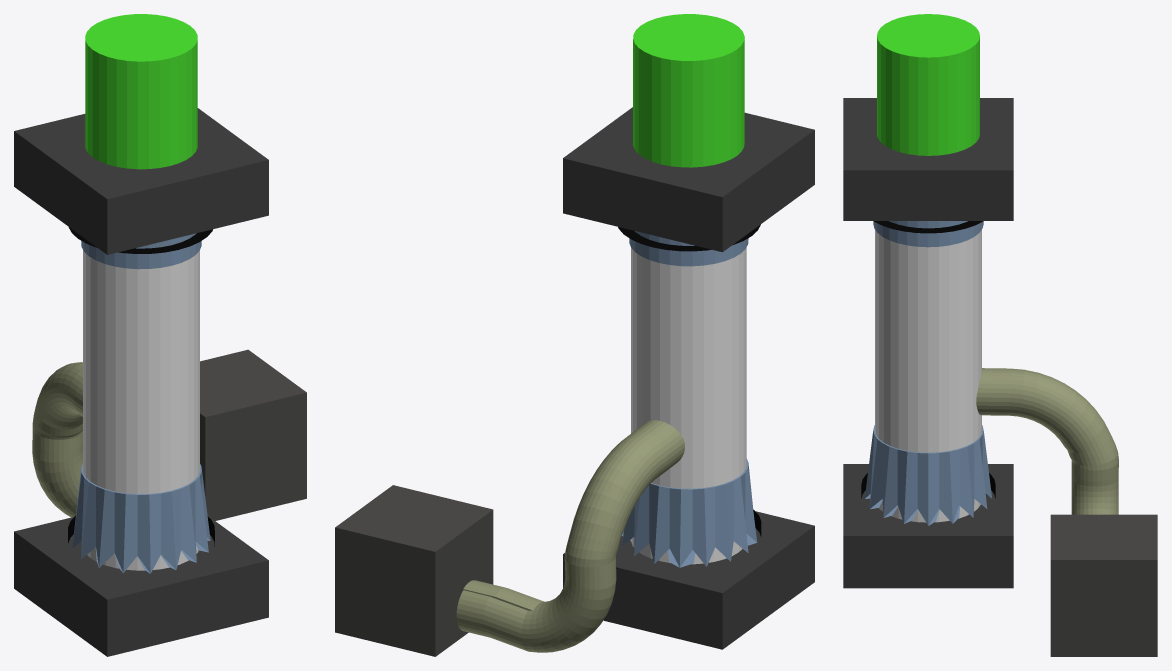
File: timer.fbx
3 views of the same model, side by side, from view 1: azimuth 30°, elevation 25°; view 2: azimuth 150°, elevation 25°; view 3: azimuth 270°, elevation 25° (orthographic). The views are drawn at different scales.
Parts seen in each view (by area): view 1: timer sab3, timer tank, liquid, tank, timer sab1, hose, timer sab2; view 2: timer sab3, timer tank, tank, hose, liquid, timer sab1, timer sab2; view 3: timer sab3, timer tank, tank, liquid, timer sab1, hose, timer sab2.
Part boxes in pixels (x1,y1,x2,y2): timer sab3: (14,108,268,656); timer tank: (83,250,199,570); liquid: (85,14,197,169); tank: (200,349,306,520); timer sab1: (72,233,210,573); hose: (32,362,82,517); timer sab2: (68,227,214,546); timer sab3: (563,107,814,649); timer tank: (631,247,746,564); tank: (335,485,493,656); hose: (456,420,684,652); liquid: (633,14,744,167); timer sab1: (622,231,757,567); timer sab2: (618,224,761,536); timer sab3: (843,98,1013,588); timer tank: (875,230,981,522); tank: (1050,514,1157,656); liquid: (877,14,979,155); timer sab1: (864,221,992,525); hose: (976,368,1118,514); timer sab2: (861,221,995,498).
Size of the model in its own units: 617 by 1070 by 587.
